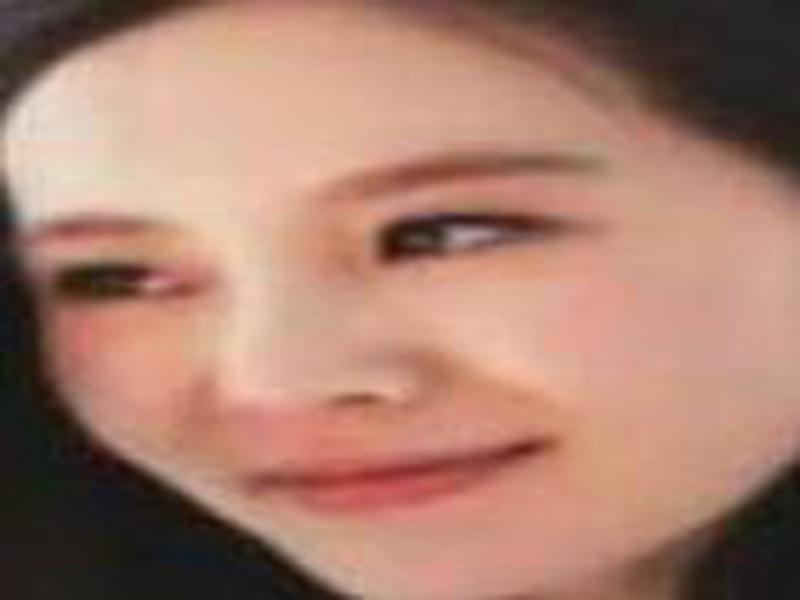without_mask: (12, 25, 753, 600)
